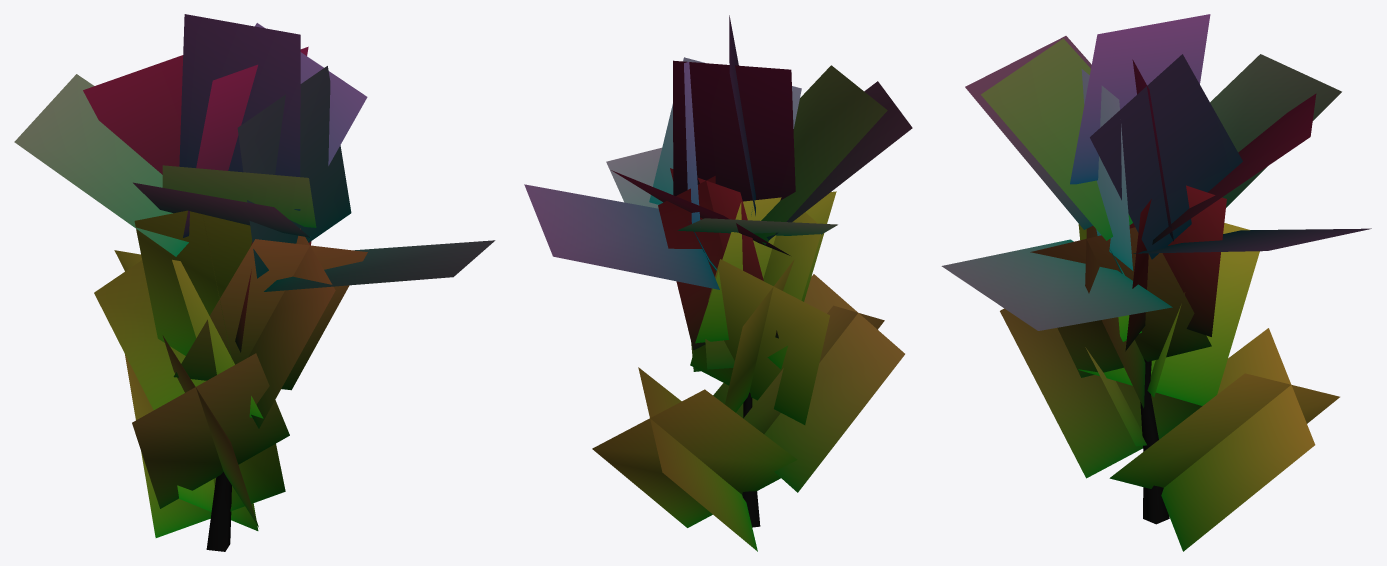
File: SuperTree_30.fbx
The picture shows the model from 3 angles, left to right: view 1: azimuth 30°, elevation 25°; view 2: azimuth 150°, elevation 25°; view 3: azimuth 270°, elevation 25°; orthographic projection. The views are drawn at different scales.
Parts seen in each view (by area): view 1: SuperTree_30; view 2: SuperTree_30; view 3: SuperTree_30.
Boxes of the visible parts, x1=… form: SuperTree_30: x1=14, y1=14, x2=495, y2=551; SuperTree_30: x1=524, y1=15, x2=912, y2=551; SuperTree_30: x1=941, y1=14, x2=1371, y2=551.
Size of the model in its own units: 542 by 746 by 564.
